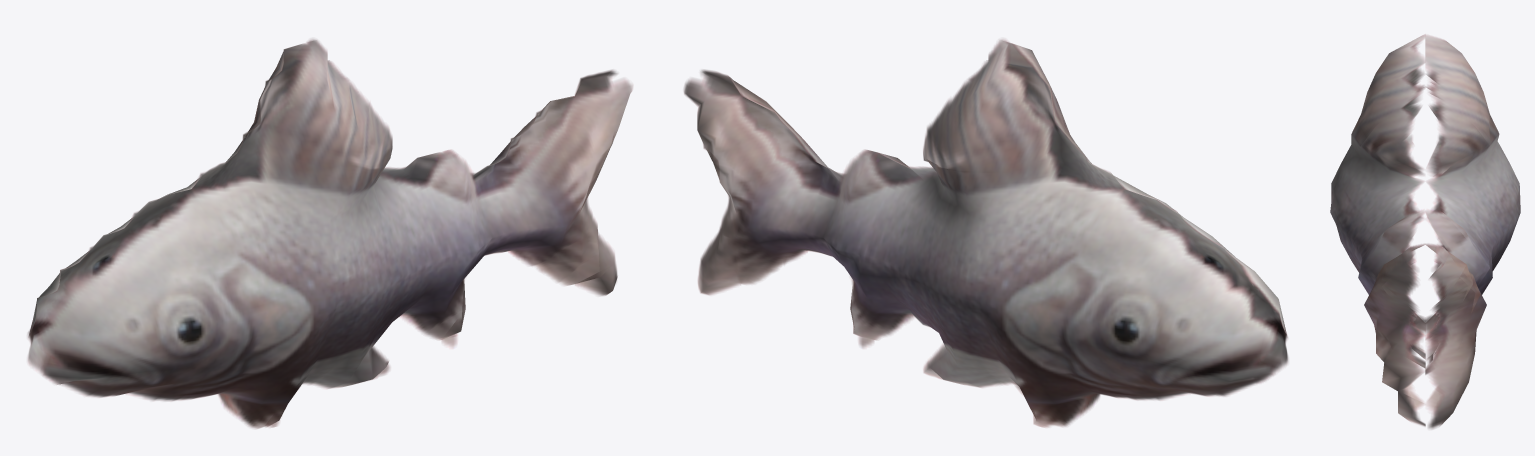
Rendered from fish_cavecarp.glb.
3 views of the same model, side by side, from view 1: azimuth 30°, elevation 25°; view 2: azimuth 150°, elevation 25°; view 3: azimuth 270°, elevation 25° (orthographic). The views are drawn at different scales.
Parts seen in each view (by area): view 1: fish_cavecarp; view 2: fish_cavecarp; view 3: fish_cavecarp.
Part boxes in pixels (x1,y1,x2,y2): fish_cavecarp: (27,39,632,428); fish_cavecarp: (684,39,1288,427); fish_cavecarp: (1330,34,1520,429).
Size of the model in its own units: 0.45 by 0.2735 by 0.1397.
Materials: 1 (1 with a texture image).
